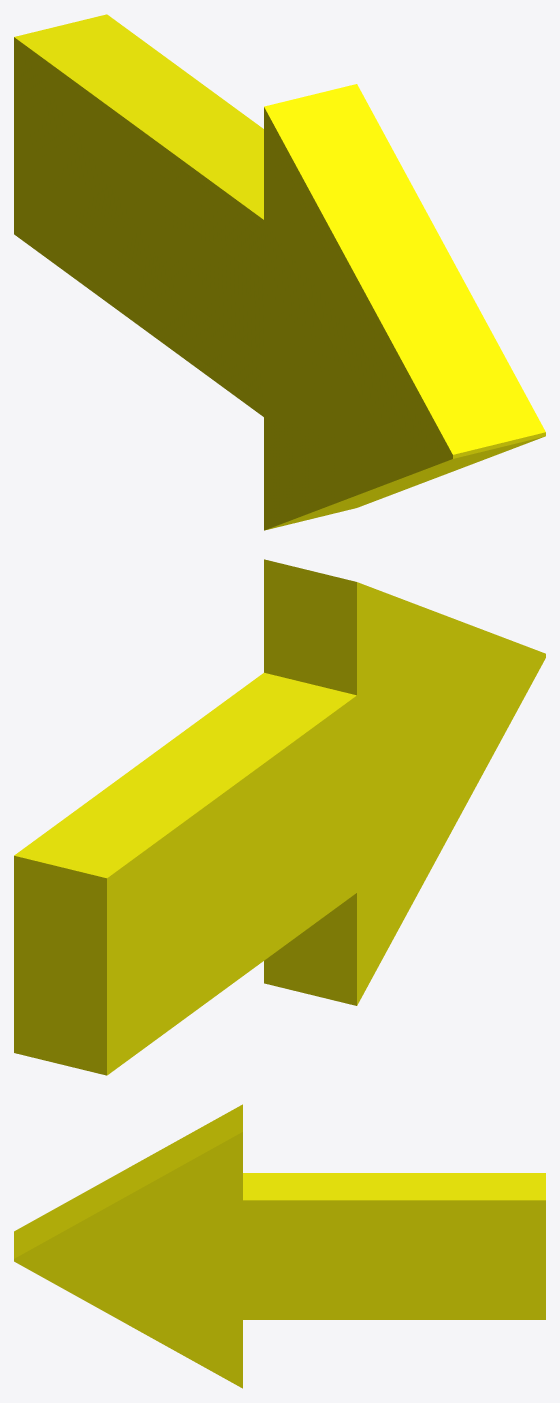
The model's file is Arrow 2.fbx.
The picture shows the model from 3 angles, top to bottom: view 1: azimuth 30°, elevation 25°; view 2: azimuth 150°, elevation 25°; view 3: azimuth 270°, elevation 25°; orthographic projection. The views are drawn at different scales.
Parts seen in each view (by area): view 1: Cube.001; view 2: Cube.001; view 3: Cube.001.
Boxes of the visible parts, x1=… form: Cube.001: x1=14, y1=14, x2=545, y2=530; Cube.001: x1=14, y1=559, x2=545, y2=1075; Cube.001: x1=14, y1=1104, x2=545, y2=1388.
Size of the model in its own units: 59.89 by 261 by 489.
